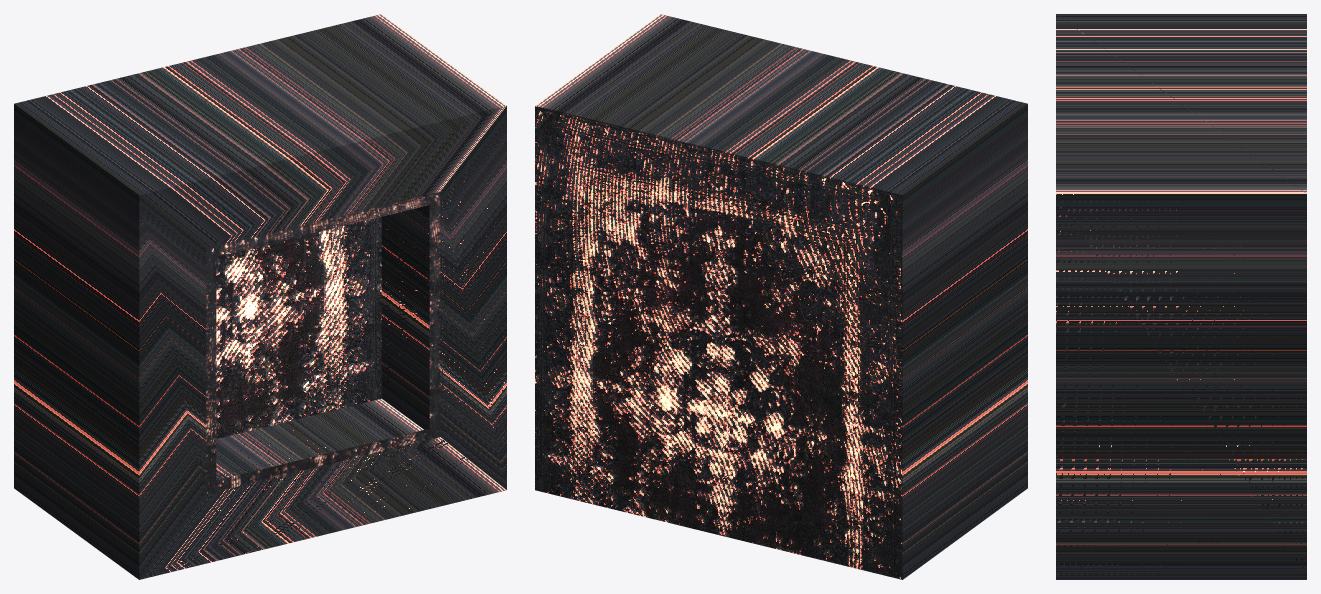
The model's file is visual_plug.glb.
3 renders of one model, left to right at view 1: azimuth 30°, elevation 25°; view 2: azimuth 150°, elevation 25°; view 3: azimuth 270°, elevation 25°, orthographic.
Visible parts, largest first — view 1: Cylinder.008; view 2: Cylinder.008; view 3: Cylinder.008.
Boxes of the visible parts, x1,y1,x2,y2 form: Cylinder.008: (14, 14, 506, 579); Cylinder.008: (535, 14, 1027, 579); Cylinder.008: (1056, 14, 1306, 579).
Size of the model in its own units: 5.17 by 5.17 by 3.04.
Materials: 1 (1 with a texture image).
